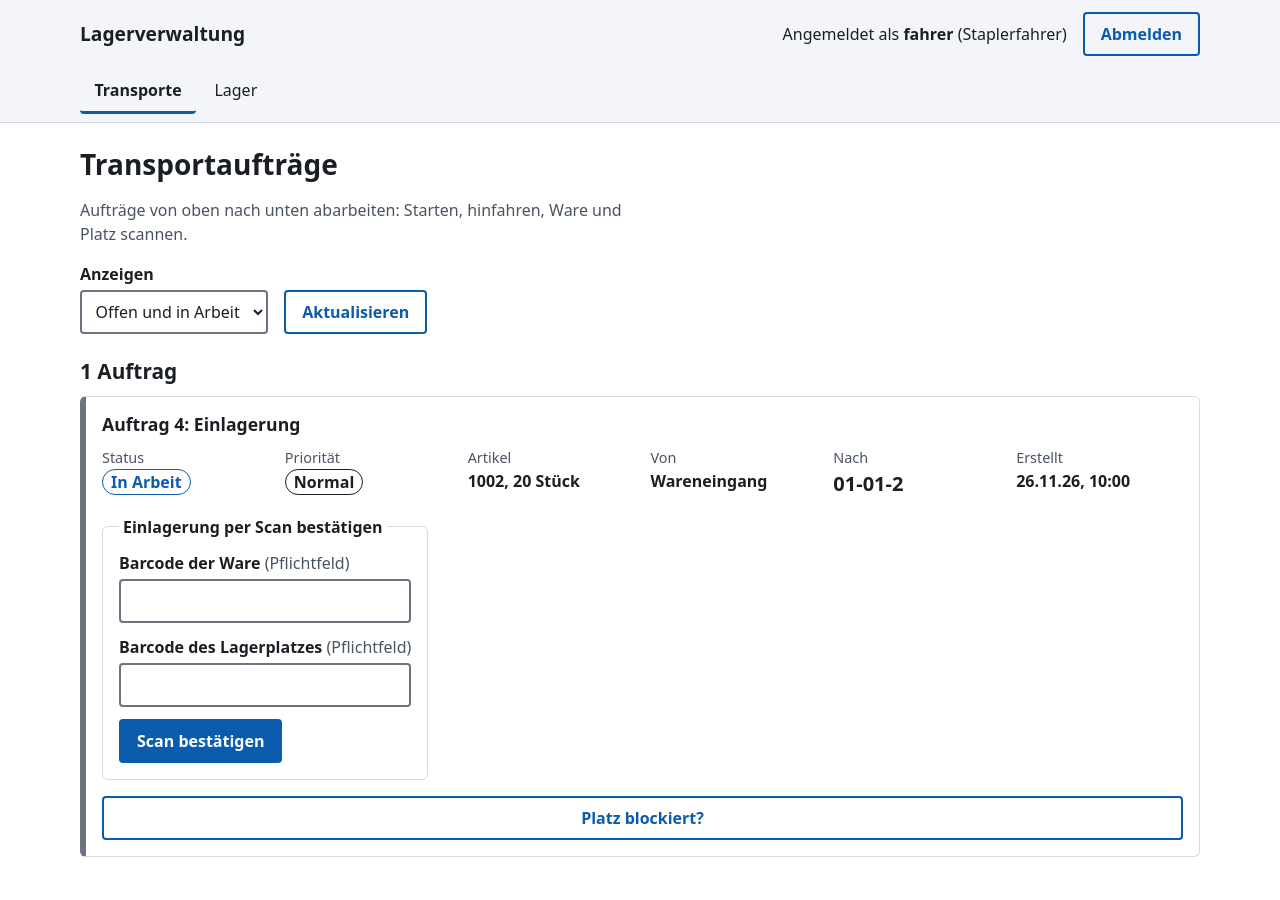
Test: Platz blockiert: Bereich klappt auf und meldet den neuen Platz
Later steps or results of the test are not shown.
expect the field labelled "Was ist mit dem Platz" is not shown: met
Step 1. Click the button "Platz blockiert?" → x=642, y=818, box [102, 796, 1183, 840]
(page scrolled)
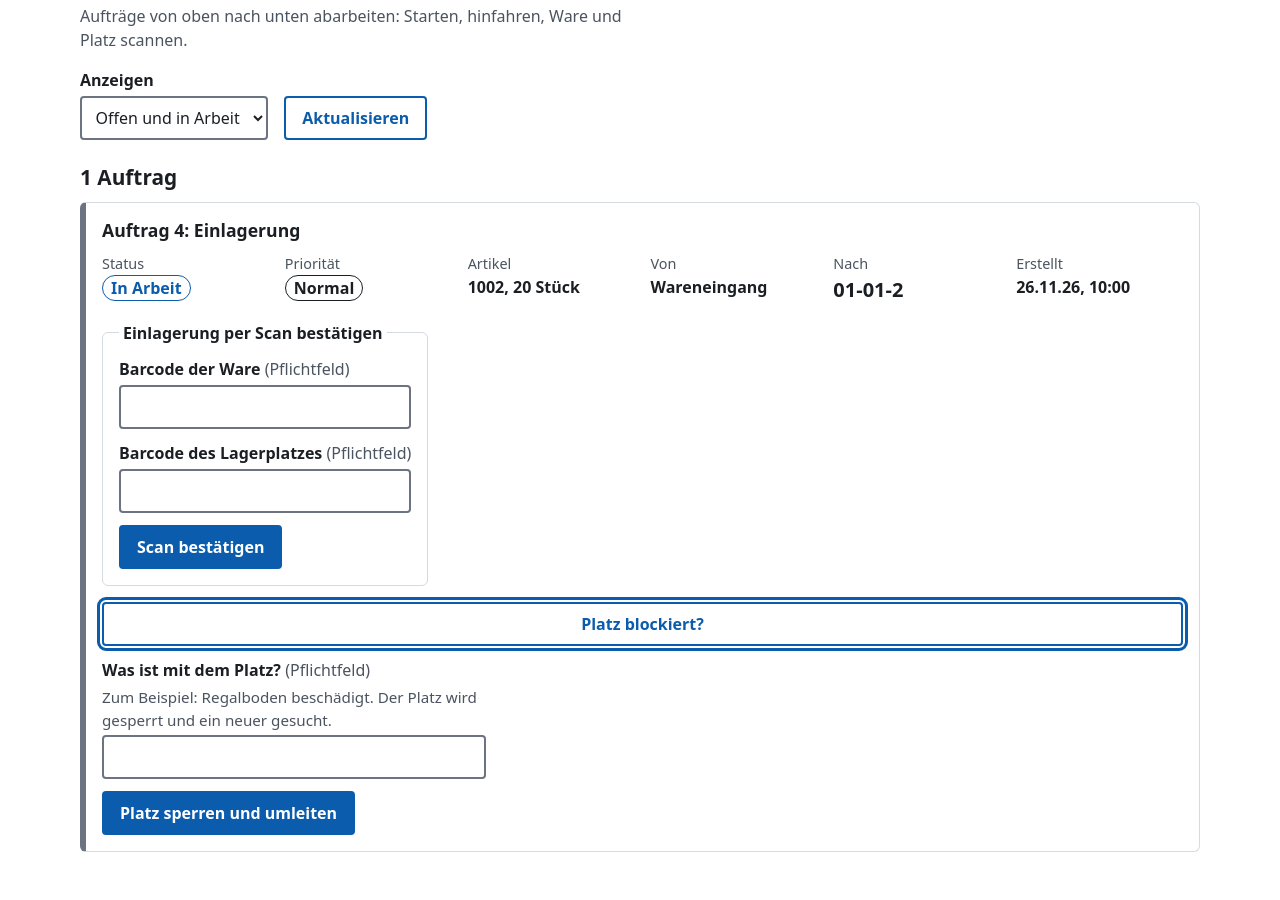
expect the button "Platz blockiert?" is expanded: met, box [102, 602, 1183, 646]
